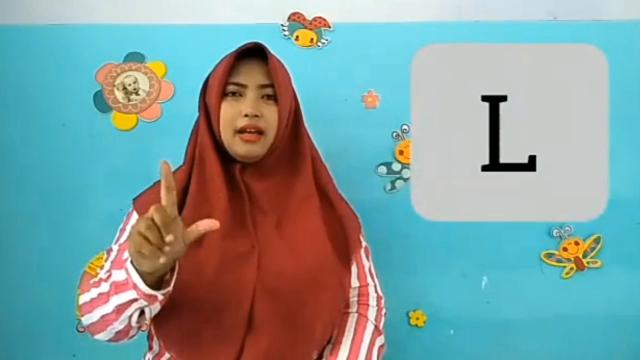L: (119, 158, 223, 283)
